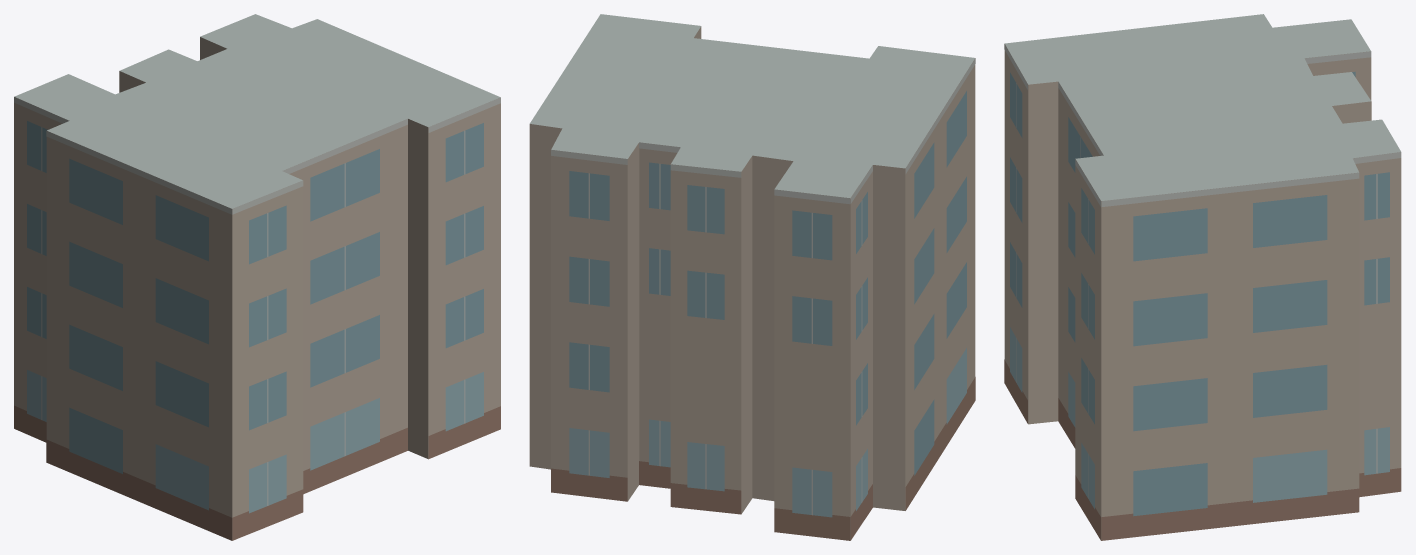
The model's file is survey-upis-32587445.glb.
3 renders of one model, left to right at view 1: azimuth 30°, elevation 25°; view 2: azimuth 150°, elevation 25°; view 3: azimuth 270°, elevation 25°, orthographic. The views are drawn at different scales.
Parts seen in each view (by area): view 1: survey-upis-32587445.tmp; view 2: survey-upis-32587445.tmp; view 3: survey-upis-32587445.tmp.
Boxes of the visible parts, box(x1,y1,x2,y2) form: survey-upis-32587445.tmp: box(14, 14, 500, 540); survey-upis-32587445.tmp: box(529, 14, 975, 540); survey-upis-32587445.tmp: box(1004, 14, 1401, 540).
Size of the model in its own units: 16.2 by 13.7 by 14.51.
